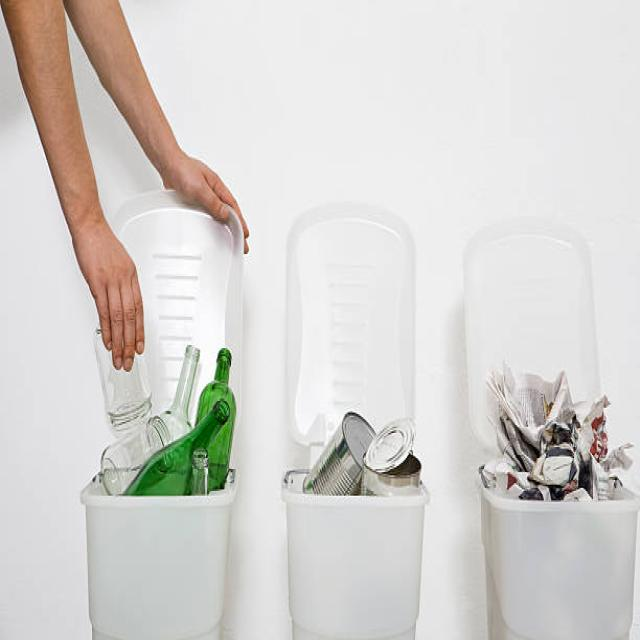glass: (103, 347, 240, 488)
metal: (310, 420, 428, 490)
paper: (486, 381, 626, 499)
